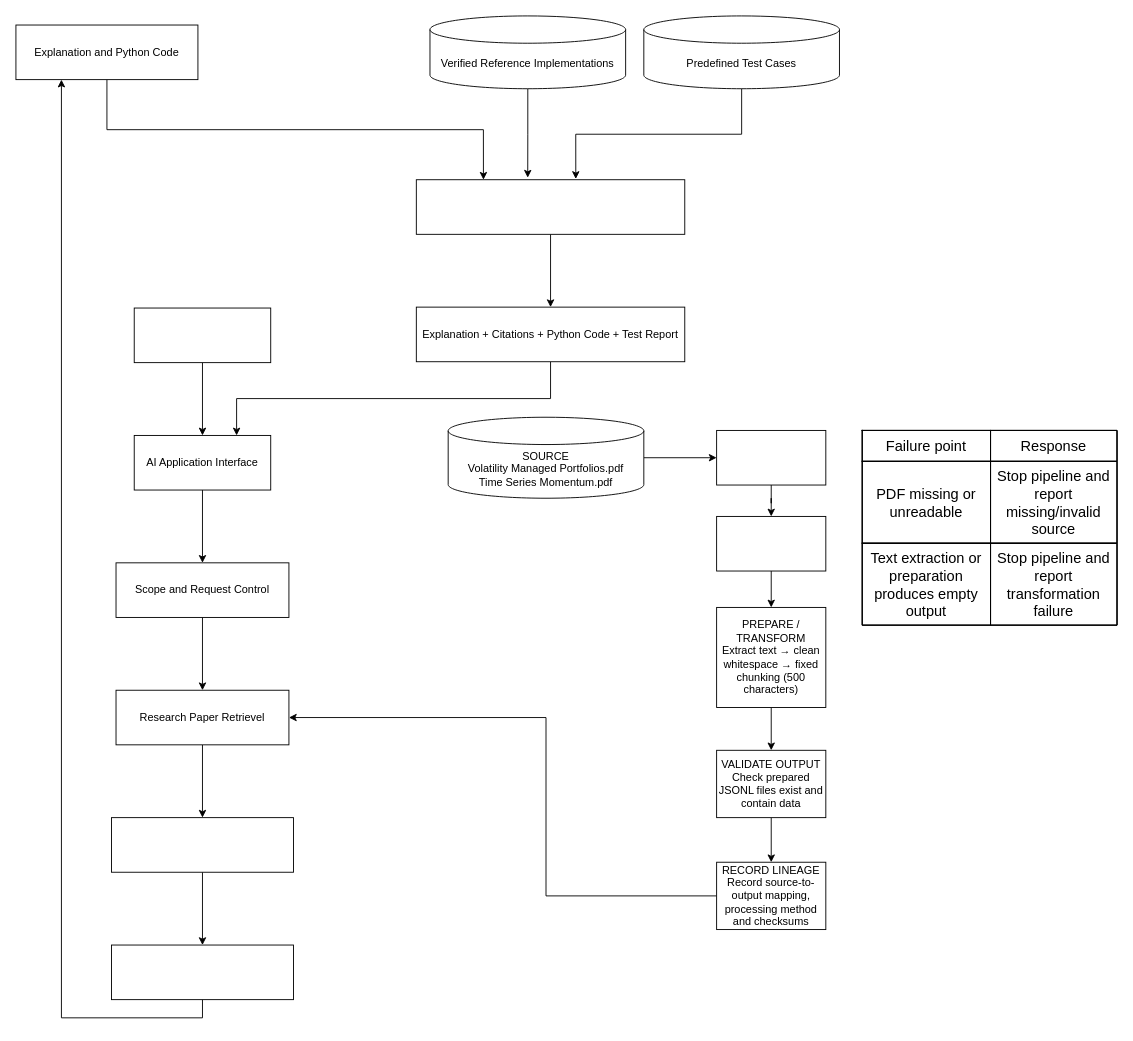
The diagram is 1133 pixels wide and 1041 high, and some of its shapes have lost their labels. The shapes that lost their labels are listed below. From the top down, each one's centre as x and y in pixels, then its label:
At point 550,206: "Code Validation and Test Runner".
At point 202,335: "Student / Researcher".
At point 771,457: "INGEST Load PDFs using pypdf".
At point 771,543: "INSPECT Check page count, extracted text and readability".
At point 202,844: "Retrieved Passages and References".
At point 202,972: "Language Model".
